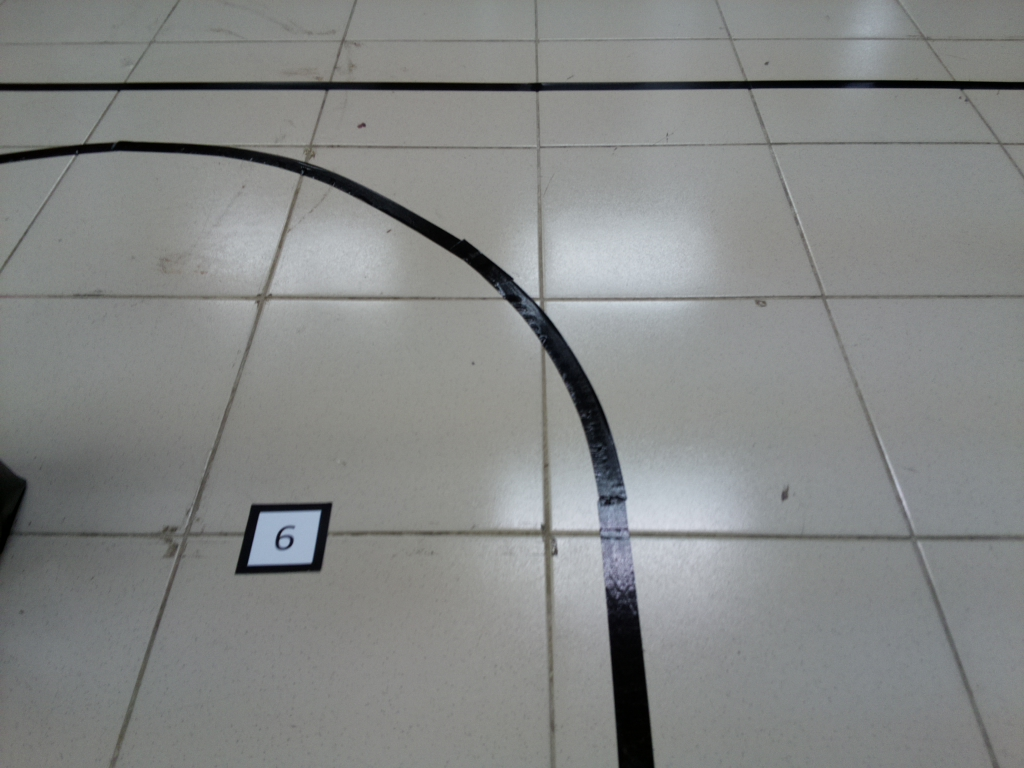left: (1, 140, 679, 500)
